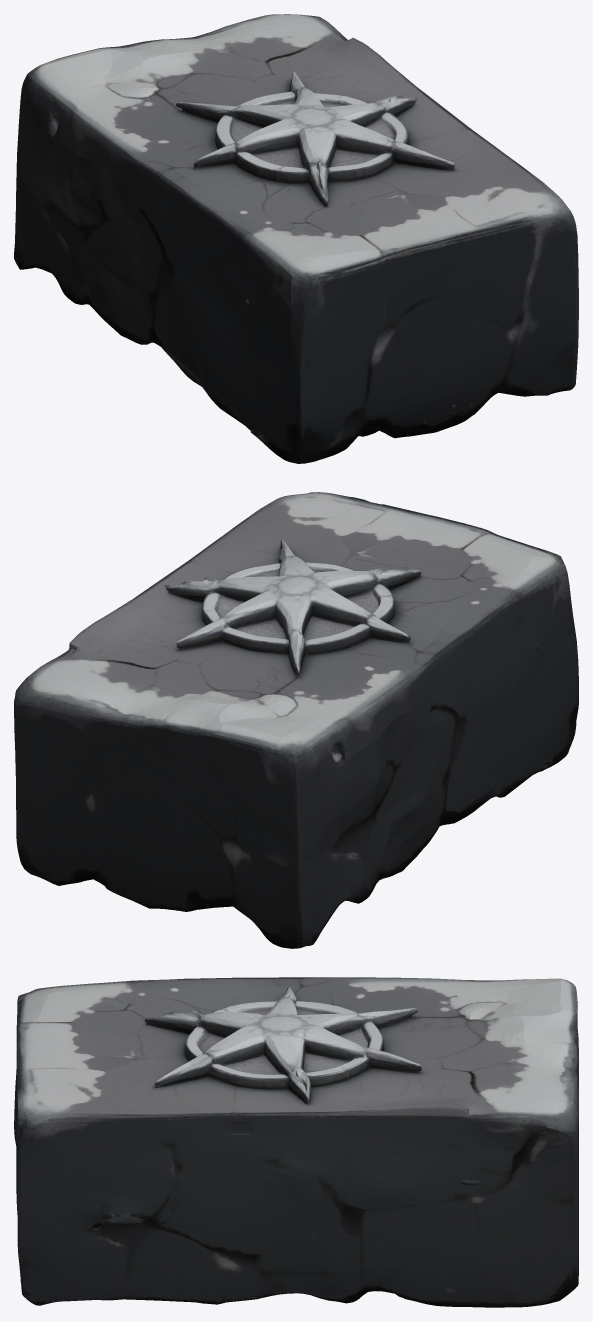
The model's file is bloque_ciclopeo.glb.
The picture shows the model from 3 angles, top to bottom: view 1: azimuth 30°, elevation 25°; view 2: azimuth 150°, elevation 25°; view 3: azimuth 270°, elevation 25°; orthographic projection.
Visible parts, largest first — view 1: world; view 2: world; view 3: world.
Boxes of the visible parts, x1,y1,x2,y2 form: world: (14, 14, 578, 463); world: (14, 492, 578, 948); world: (14, 977, 578, 1307).
Size of the model in its own units: 0.6111 by 0.4311 by 0.986.
Materials: 1 (1 with a texture image).
